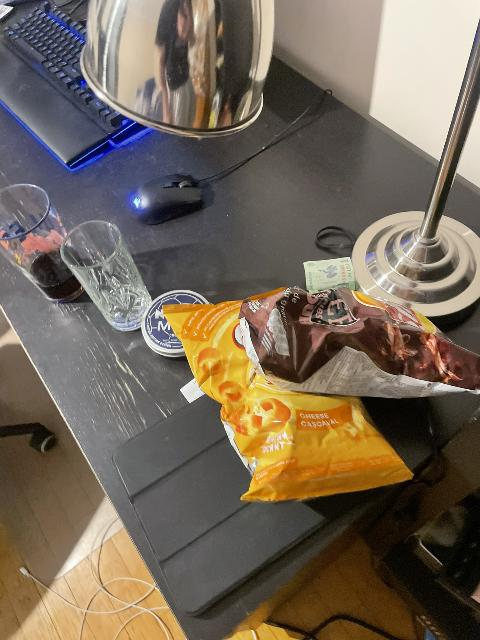Chio Hula Hoops Cheese 70g: (159, 303, 412, 502)
Lays Beef Grilled Ribs 125g: (248, 282, 474, 394)
